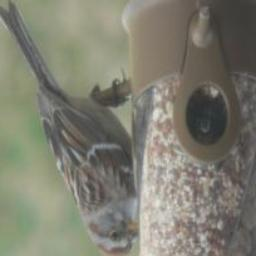Sparrow: (0, 0, 138, 256)
